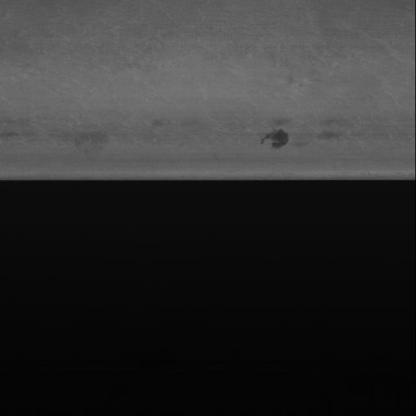oil_spot: (254, 124, 304, 152)
